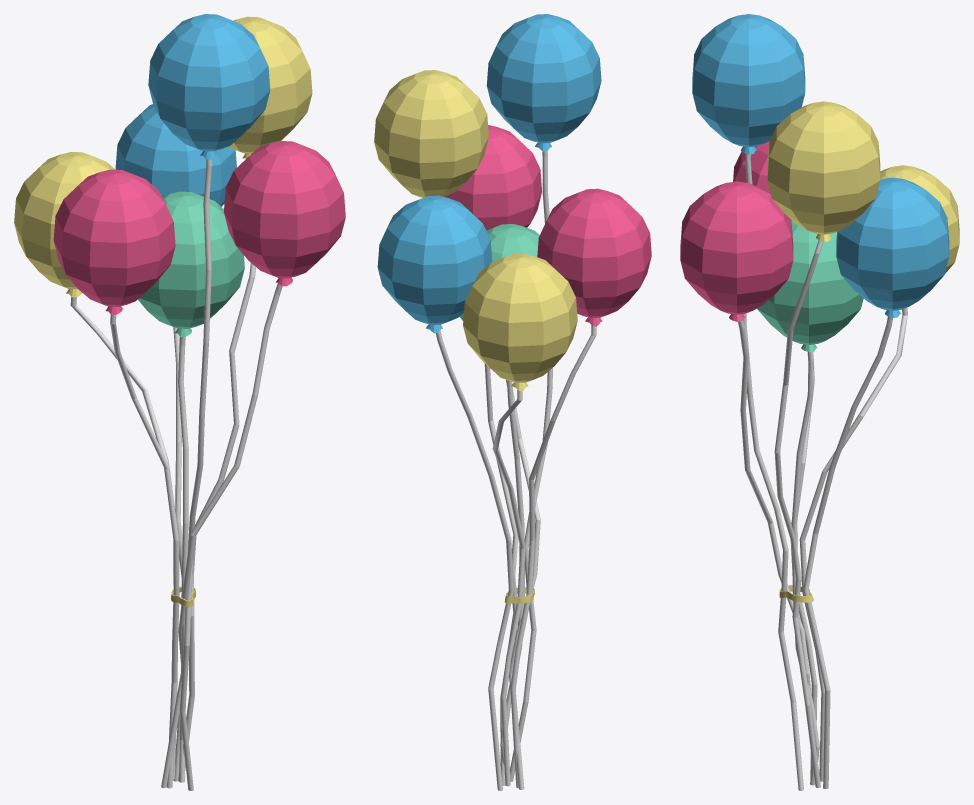
File: baloon_group.fbx
3 views of the same model, side by side, from view 1: azimuth 30°, elevation 25°; view 2: azimuth 150°, elevation 25°; view 3: azimuth 270°, elevation 25° (orthographic). The views are drawn at different scales.
Parts seen in each view (by area): view 1: strings, ballon5, ballon4, ballon1, ballon6, ballon3, ballon, ballon2; view 2: strings, ballon1, ballon, ballon2, ballon3, ballon4, ballon5, ballon6; view 3: strings, ballon2, ballon5, ballon1, ballon3, ballon6, ballon, ballon4.
Part boxes in pixels (x1,y1,x2,y2): strings: (70,159,282,790); ballon5: (224,141,345,286); ballon4: (53,169,175,314); ballon1: (148,14,270,159); ballon6: (138,191,244,336); ballon3: (115,104,236,206); ballon: (14,152,114,297); ballon2: (228,16,312,159); strings: (435,151,596,790); ballon1: (486,14,601,151); ballon: (463,253,577,390); ballon2: (374,70,488,197); ballon3: (377,195,492,333); ballon4: (537,188,651,326); ballon5: (444,125,541,230); ballon6: (459,224,539,321); strings: (738,153,907,790); ballon2: (767,101,880,241); ballon5: (680,181,793,321); ballon1: (692,14,805,154); ballon3: (836,177,949,317); ballon6: (757,218,863,352); ballon: (880,165,959,273); ballon4: (733,141,770,194).
Bounding box in the file's own units: 111 × 322 × 106.
